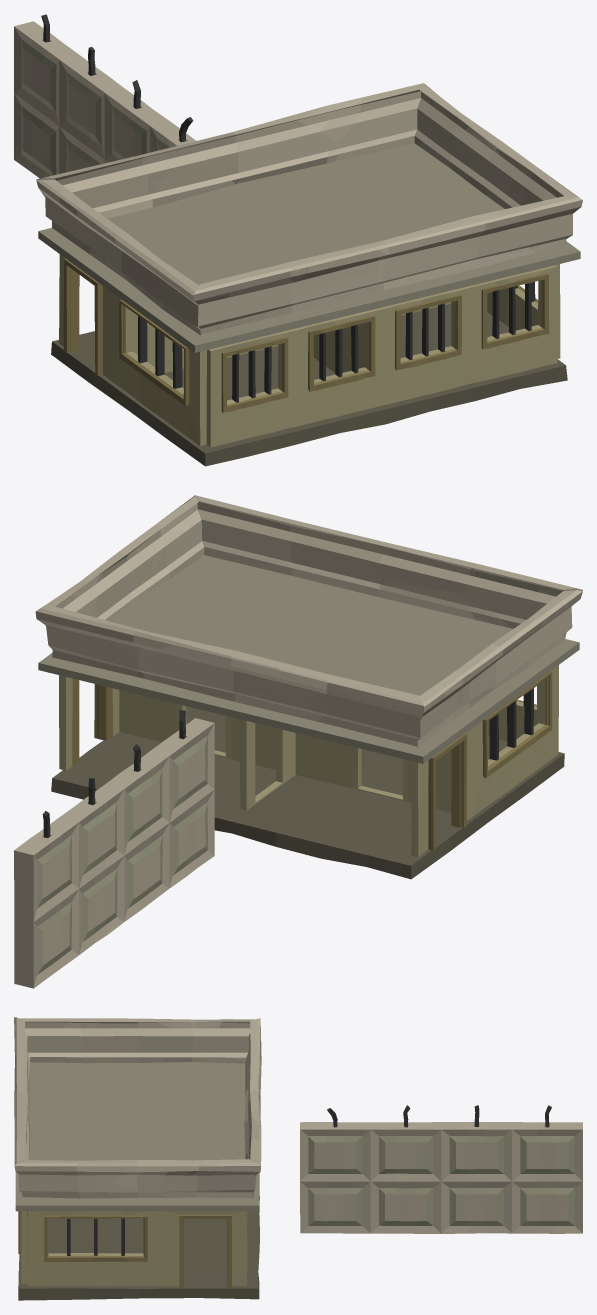
Rendered from KPPВоротаИЗагрождения.fbx.
3 views of the same model, one above another, from view 1: azimuth 30°, elevation 25°; view 2: azimuth 150°, elevation 25°; view 3: azimuth 270°, elevation 25° (orthographic). The views are drawn at different scales.
Visible parts, largest first — view 1: PanelWithWindows, Roof, Fence.002, Wall, Foundation, Fence.001, PanelWithDoor2, Fence.003, Fence.004, Roof_cell.006, Roof_cell.005, Fence.001_cell.006 (+39 smaller); view 2: Roof, Foundation, Wall, Fence.002, Fence.001, PanelWithDoor2, Fence.004, Fence.003, Fence.001_cell.001, PanelInside, Fence.001_cell.006, Wall_cell.014 (+41 smaller); view 3: Wall, Roof, Foundation, PanelWithDoor, Fence.003, Fence.004, Roof_cell.005, Wall_cell.012, Wall_cell, Wall_cell.006, Roof_cell.003, Fence.003_cell.010 (+31 smaller).
Part boxes in pixels (left/top/right/bottom): PanelWithWindows: left=206, top=265, right=557, bottom=447; Roof: left=38, top=143, right=580, bottom=352; Fence.002: left=194, top=196, right=582, bottom=334; Wall: left=14, top=14, right=194, bottom=178; Foundation: left=51, top=304, right=567, bottom=466; Fence.001: left=36, top=90, right=420, bottom=218; PanelWithDoor2: left=59, top=258, right=206, bottom=445; Fence.003: left=36, top=179, right=201, bottom=334; Fence.004: left=415, top=83, right=582, bottom=213; Roof_cell.006: left=295, top=148, right=417, bottom=233; Roof_cell.005: left=38, top=190, right=235, bottom=247; Fence.001_cell.006: left=185, top=119, right=339, bottom=183; Roof: left=38, top=555, right=579, bottom=763; Foundation: left=51, top=706, right=564, bottom=879; Wall: left=14, top=710, right=214, bottom=988; Fence.002: left=195, top=495, right=582, bottom=628; Fence.001: left=35, top=608, right=423, bottom=740; PanelWithDoor2: left=412, top=672, right=558, bottom=853; Fence.004: left=40, top=495, right=204, bottom=625; Fence.003: left=417, top=590, right=582, bottom=746; Fence.001_cell.001: left=308, top=677, right=424, bottom=746; PanelInside: left=163, top=705, right=451, bottom=812; Fence.001_cell.006: left=136, top=639, right=280, bottom=703; Wall_cell.014: left=14, top=811, right=79, bottom=957; Wall: left=300, top=1105, right=582, bottom=1233; Roof: left=15, top=1062, right=259, bottom=1211; Foundation: left=18, top=1196, right=259, bottom=1300; PanelWithDoor: left=28, top=1211, right=247, bottom=1287; Fence.003: left=19, top=1018, right=253, bottom=1063; Fence.004: left=14, top=1159, right=260, bottom=1198; Roof_cell.005: left=158, top=1063, right=245, bottom=1125; Wall_cell.012: left=357, top=1122, right=466, bottom=1197; Wall_cell: left=465, top=1130, right=582, bottom=1213; Wall_cell.006: left=397, top=1105, right=518, bottom=1171; Roof_cell.003: left=94, top=1062, right=217, bottom=1109; Fence.003_cell.010: left=91, top=1018, right=176, bottom=1062.
Size of the model in its own units: 1122 by 502 by 1818.
